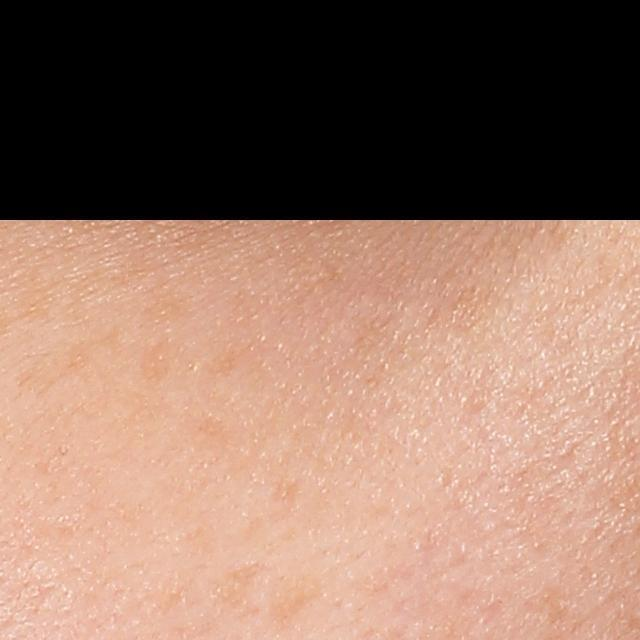melasma: (418, 268, 504, 340), (135, 279, 197, 331), (138, 332, 191, 389)
